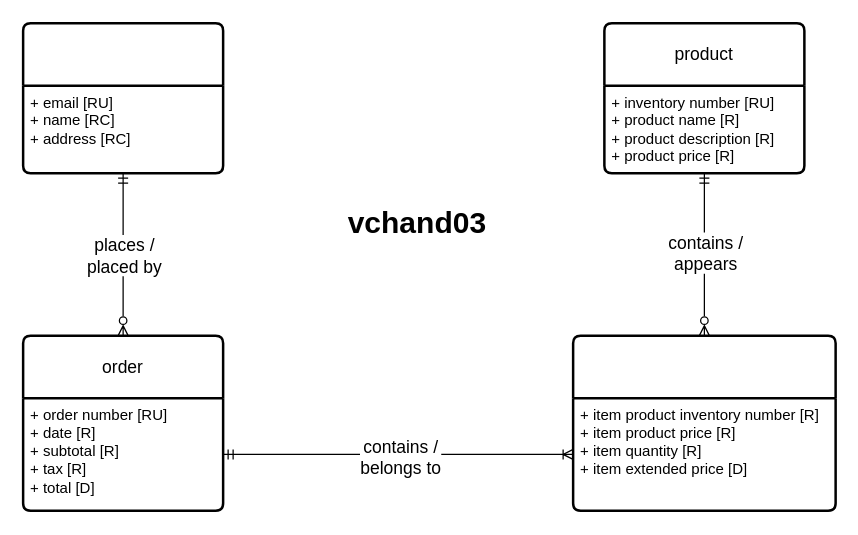
This 858x535 diagram has some shape labels left out. The shapes that lost their labels are listed below. From the top down, each one's box as (x1, y1, x2, y2) in pixels, then its label:
(21, 21, 224, 174): customer
(571, 334, 836, 511): order line item
